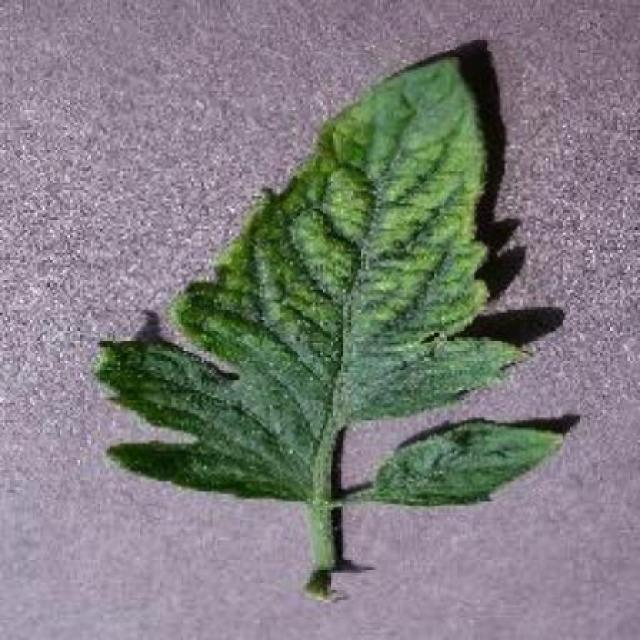Mosaic Virus: (88, 51, 563, 506)
